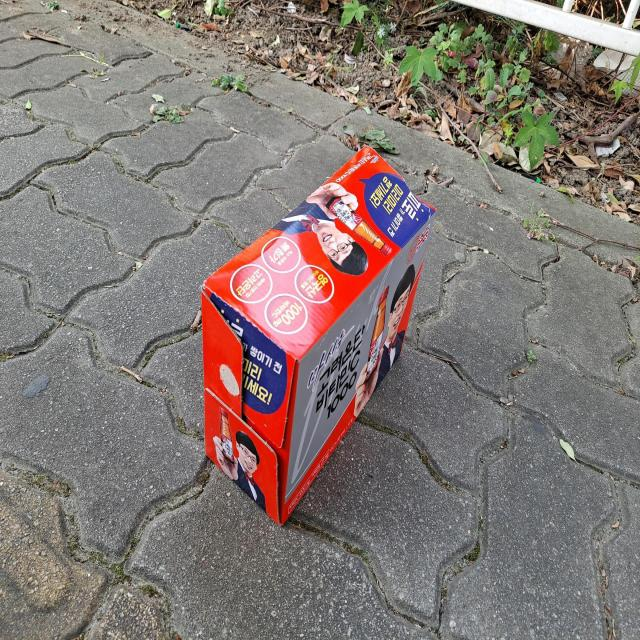paperpack: (201, 146, 436, 523)
